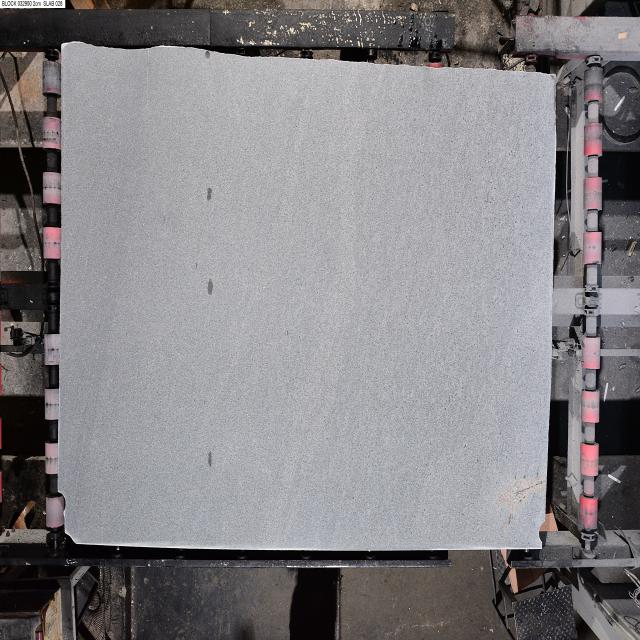chapa: (59, 43, 555, 549)
